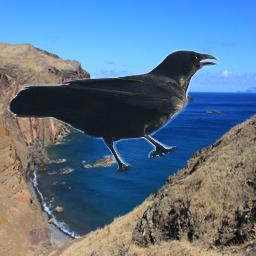Crow: (8, 49, 221, 174)
